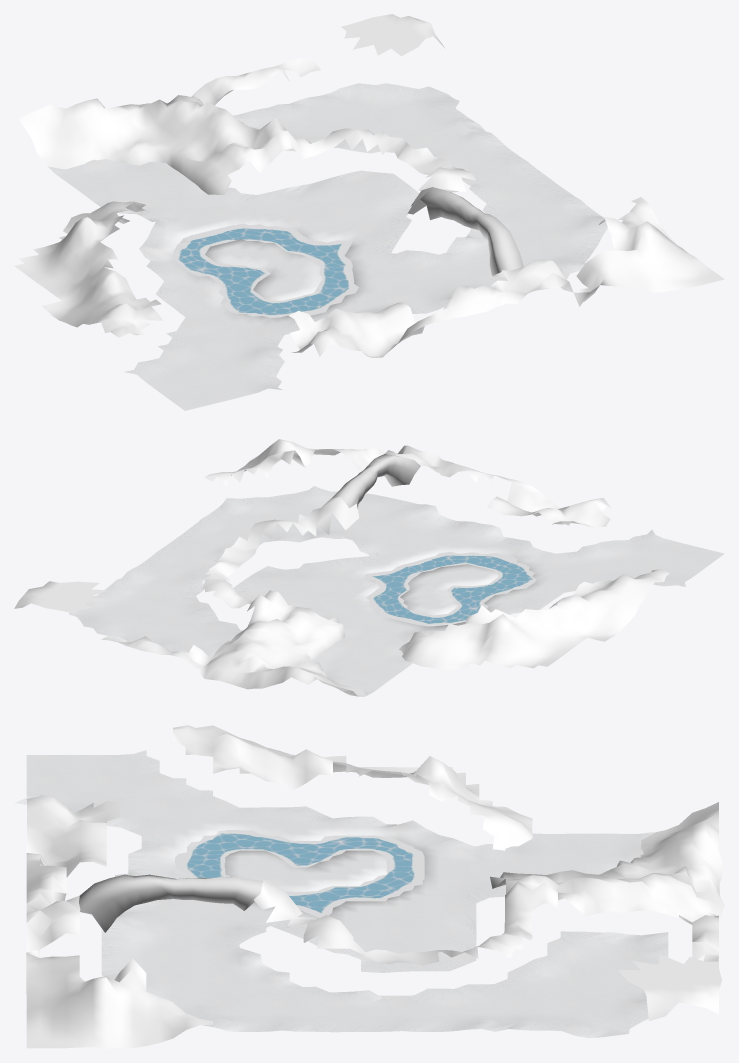
The model's file is landscapeDraco.glb.
3 views of the same model, one above another, from view 1: azimuth 30°, elevation 25°; view 2: azimuth 150°, elevation 25°; view 3: azimuth 270°, elevation 25° (orthographic). The views are drawn at different scales.
Visible parts, largest first — view 1: snow, otherLand, ice, arch; view 2: snow, otherLand, ice, arch; view 3: snow, otherLand, ice, arch.
Boxes of the visible parts, <box> form: snow: <box>47,83,607,410</box>; otherLand: <box>14,14,724,357</box>; ice: <box>173,223,358,317</box>; arch: <box>420,187,523,277</box>; snow: <box>69,486,724,696</box>; otherLand: <box>14,439,669,696</box>; ice: <box>365,552,536,626</box>; arch: <box>332,454,420,508</box>; snow: <box>14,750,668,1038</box>; otherLand: <box>26,725,724,1048</box>; ice: <box>174,830,424,917</box>; arch: <box>79,874,263,932</box>.
Size of what is drawn, in the model's own units: 39.45 by 5.96 by 39.88.
Materials: 4 (2 with a texture image).
